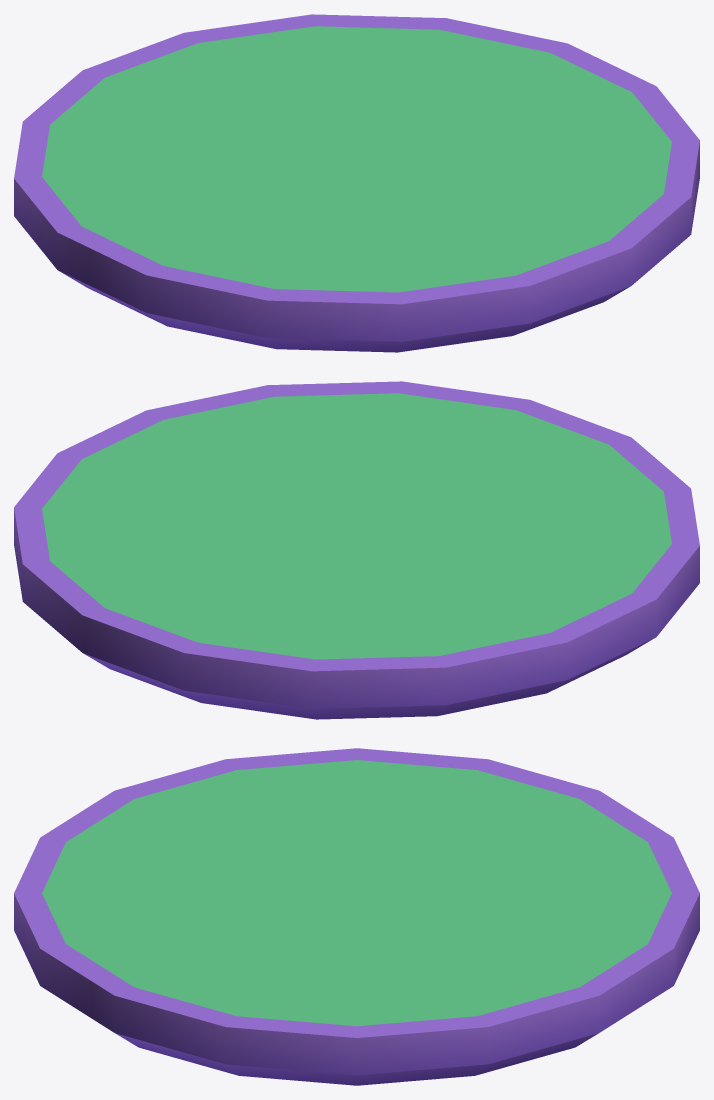
The model's file is platformer_platform_grass_large_round.glb.
3 views of the same model, one above another, from view 1: azimuth 30°, elevation 25°; view 2: azimuth 150°, elevation 25°; view 3: azimuth 270°, elevation 25° (orthographic).
Parts seen in each view (by area): view 1: platform-grass-large-round; view 2: platform-grass-large-round; view 3: platform-grass-large-round.
Part boxes in pixels (bbox=[...]): platform-grass-large-round: bbox=[14, 14, 699, 352]; platform-grass-large-round: bbox=[14, 381, 699, 719]; platform-grass-large-round: bbox=[14, 748, 699, 1085].
Size of the model in its own units: 5 by 0.5 by 5.
1 material, 1 textured.
